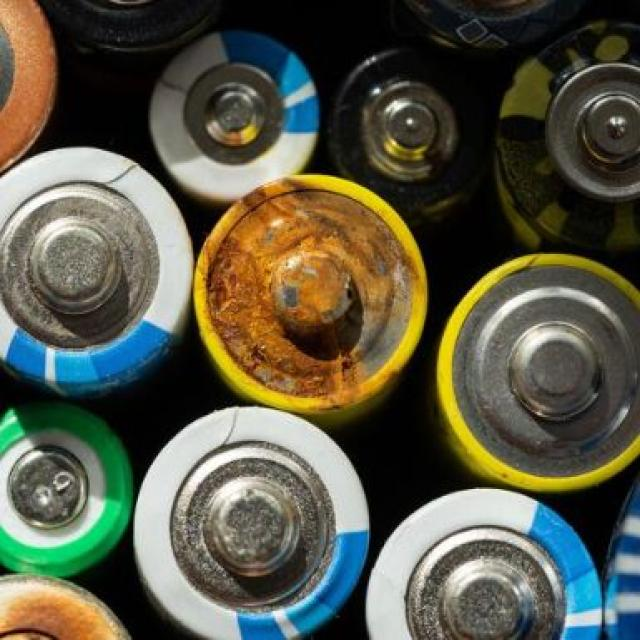electronic: (423, 214, 640, 522), (139, 376, 365, 636), (354, 435, 640, 640), (1, 145, 203, 412), (305, 36, 504, 230), (134, 31, 338, 196)
